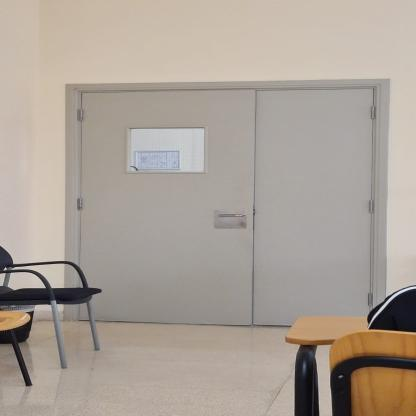closed: (52, 76, 394, 359)
